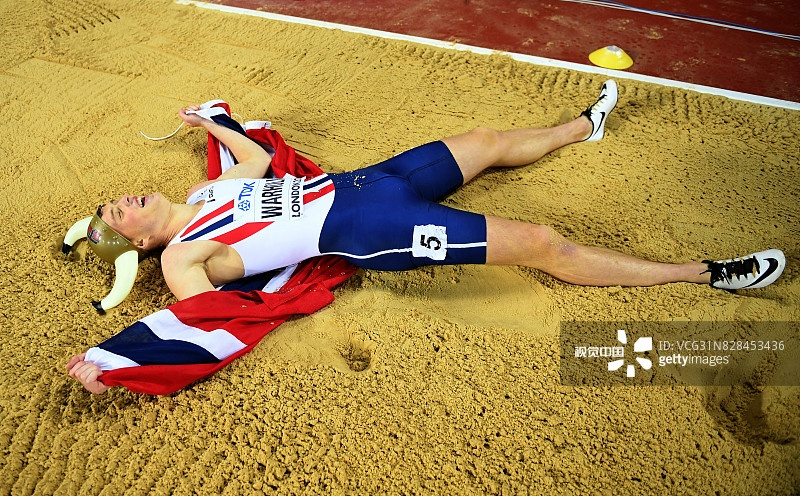falling: (17, 63, 800, 377)
